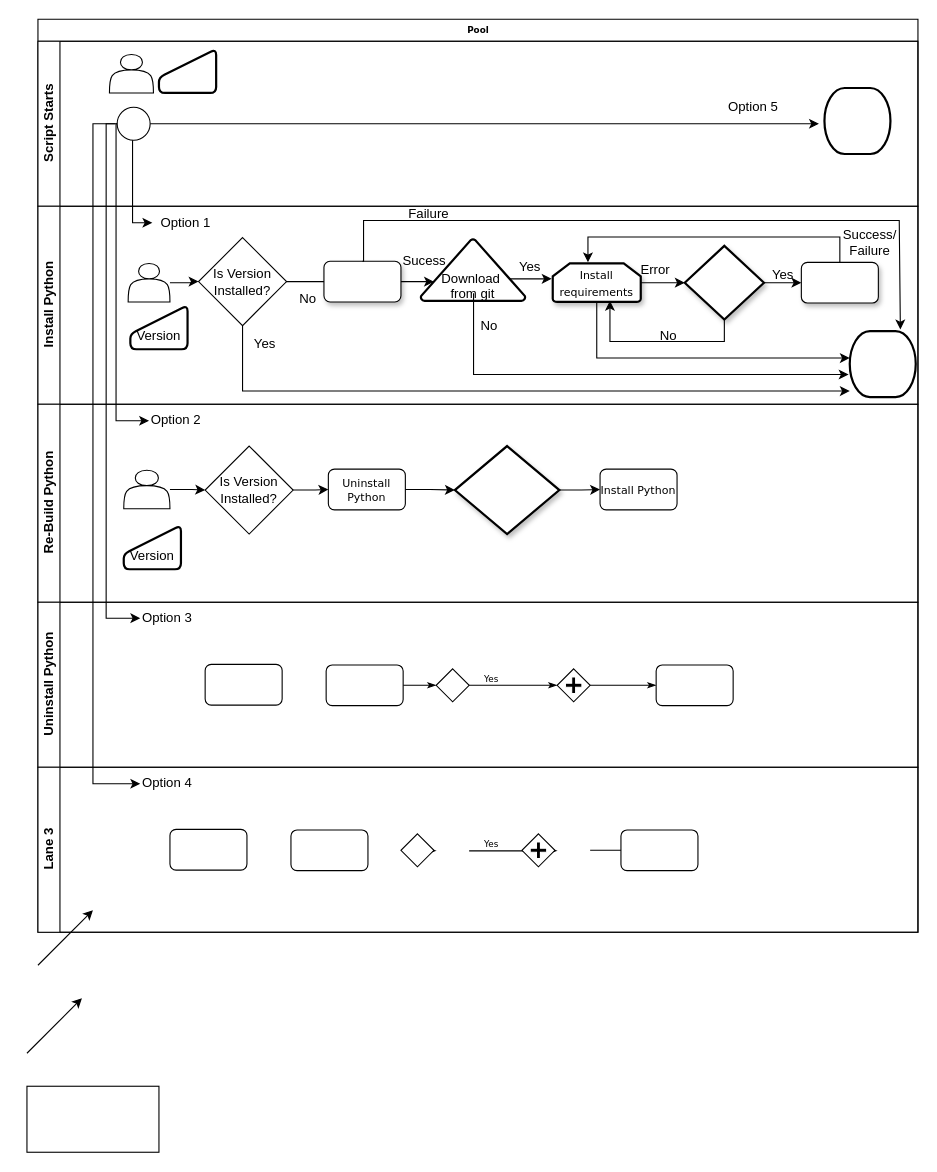
Some shapes in this 937 by 1172 pixel diagram are drawn without their labels. Here are the shapes that lost their labels. From the top down, the centre of each, then its label:
At (x=187, y=70): "Option".
At (x=857, y=120): "Exit Script".
At (x=363, y=283): "Installs python".
At (x=725, y=284): "Resolve Error?".
At (x=840, y=284): "Upgrade/ Downgrade package".
At (x=882, y=363): "Exit".
At (x=507, y=491): "Uninstalled?".
